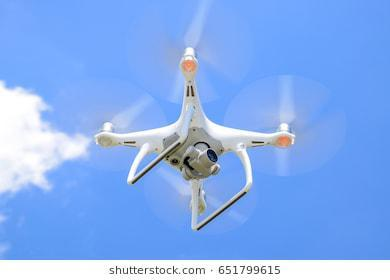drone: (55, 0, 357, 234)
